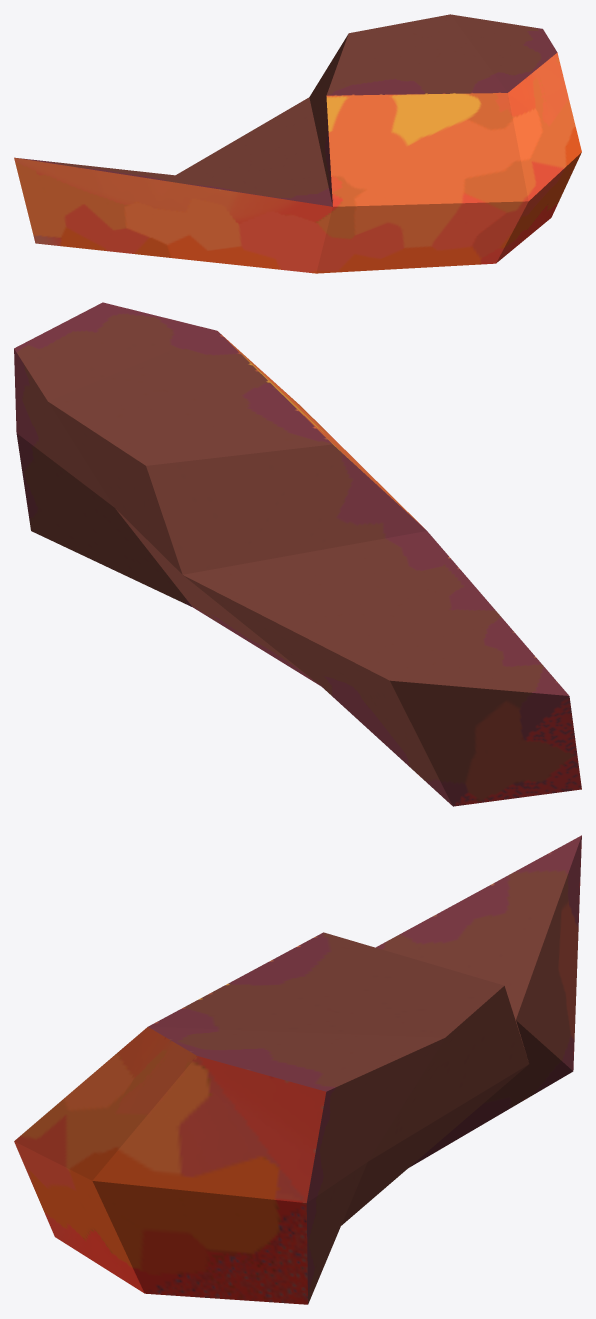
File: Grips1_001Broken.fbx
3 views of the same model, one above another, from view 1: azimuth 30°, elevation 25°; view 2: azimuth 150°, elevation 25°; view 3: azimuth 270°, elevation 25° (orthographic). The views are drawn at different scales.
Parts seen in each view (by area): view 1: Grips1_001Broken; view 2: Grips1_001Broken; view 3: Grips1_001Broken.
Part boxes in pixels (x1,y1,x2,y2): Grips1_001Broken: (14, 14, 581, 273); Grips1_001Broken: (14, 302, 581, 806); Grips1_001Broken: (14, 835, 581, 1304).
Bounding box in the file's own units: 2.05 × 3.27 × 1.22.
1 material, 1 textured.
